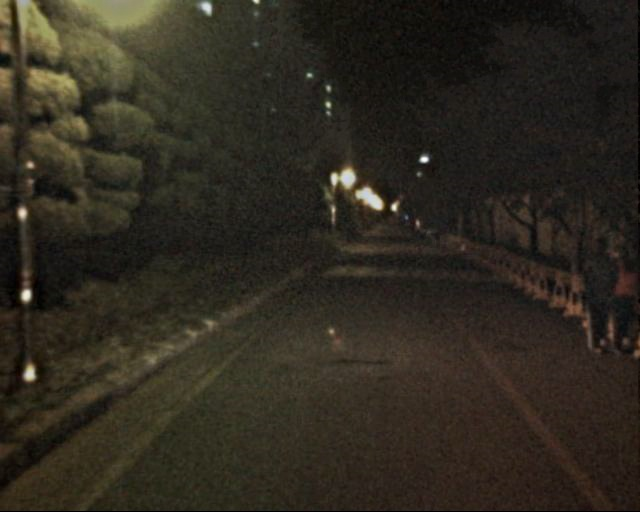person: (571, 236, 621, 354), (605, 243, 640, 351)
